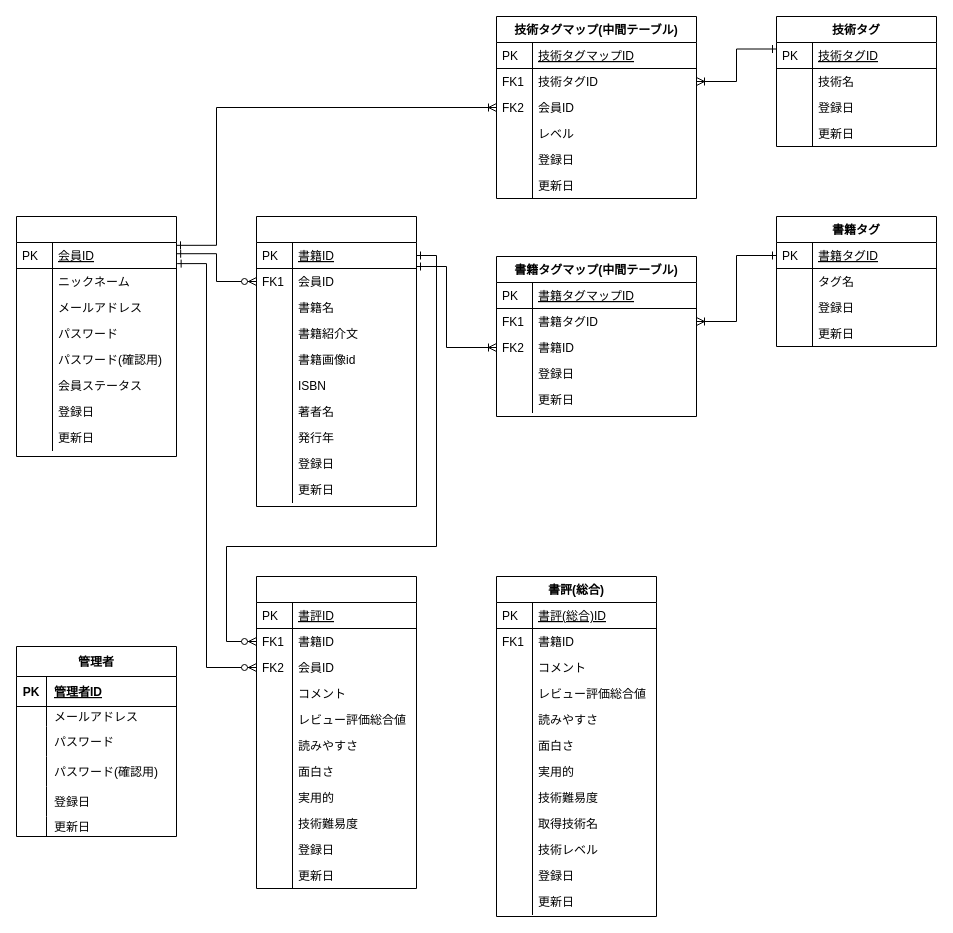
Some shapes in this 953 by 933 pixel diagram are drawn without their labels. The shapes that lost their labels are listed below. From the top down, each one's box as (x1, y1, x2, y2) in pixels, then its label:
(16, 216, 176, 456): 会員
(256, 216, 416, 506): 書籍
(256, 576, 416, 888): 書評
